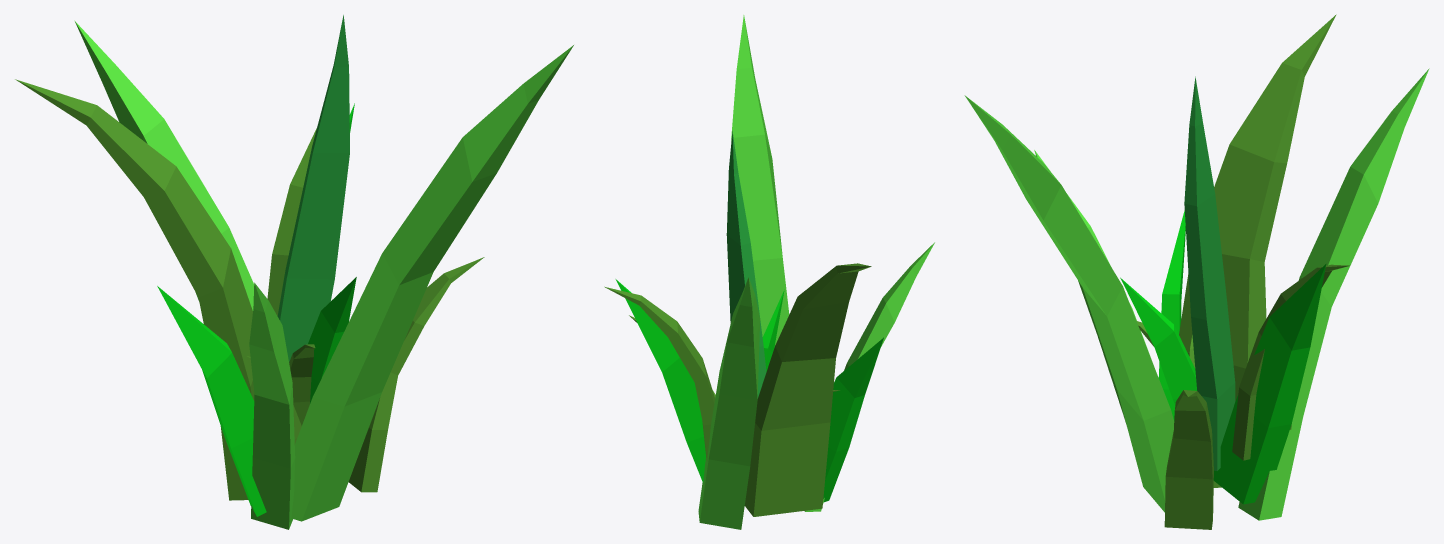
The model's file is grass11.fbx.
3 renders of one model, left to right at view 1: azimuth 30°, elevation 25°; view 2: azimuth 150°, elevation 25°; view 3: azimuth 270°, elevation 25°, orthographic. The views are drawn at different scales.
Visible parts, largest first — view 1: Cube.011; view 2: Cube.011; view 3: Cube.011.
Part boxes in pixels (left/top/right/bottom): Cube.011: left=15, top=15, right=573, bottom=529; Cube.011: left=604, top=15, right=934, bottom=529; Cube.011: left=964, top=14, right=1429, bottom=529.
Size of the model in its own units: 397 by 454 by 364.
